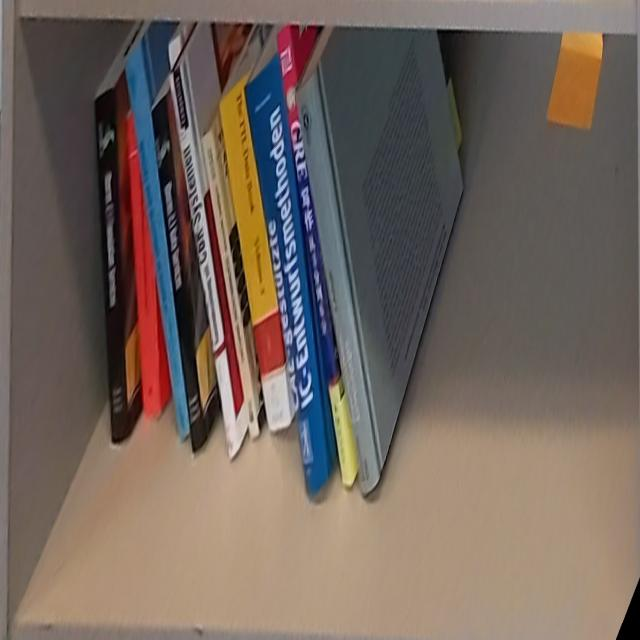Book Spine: (244, 51, 329, 504), (295, 70, 381, 499), (275, 23, 353, 494), (167, 67, 240, 467), (123, 40, 190, 444), (219, 78, 293, 433), (151, 98, 206, 453), (201, 126, 260, 442), (92, 89, 130, 449), (125, 114, 161, 418)
